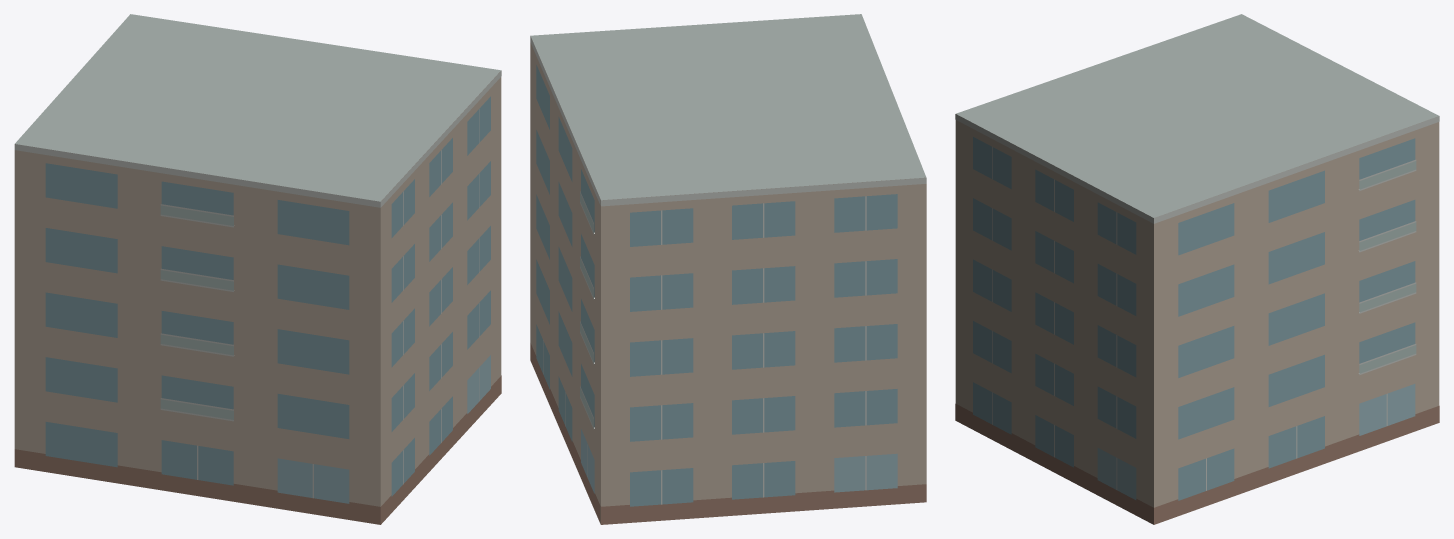
The model's file is survey-upis-32660699.glb.
3 views of the same model, side by side, from view 1: azimuth 30°, elevation 25°; view 2: azimuth 150°, elevation 25°; view 3: azimuth 270°, elevation 25° (orthographic). The views are drawn at different scales.
Parts seen in each view (by area): view 1: survey-upis-32660699.tmp; view 2: survey-upis-32660699.tmp; view 3: survey-upis-32660699.tmp.
Part boxes in pixels (x1=…): survey-upis-32660699.tmp: x1=14, y1=14, x2=501, y2=524; survey-upis-32660699.tmp: x1=530, y1=14, x2=926, y2=524; survey-upis-32660699.tmp: x1=955, y1=14, x2=1439, y2=524.
Size of the model in its own units: 18.27 by 12.8 by 18.3.
